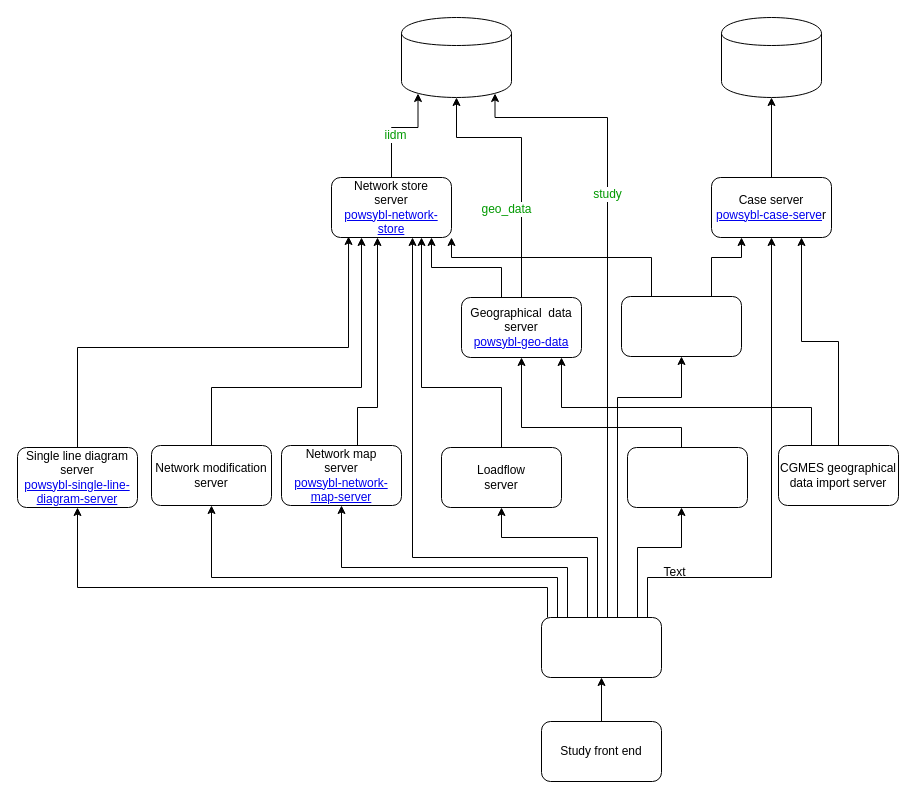
Some shapes in this 916 by 799 pixel diagram are drawn without their labels. Each missing label, with the centre of its shape:
"Cassandra cluster" goes at [456,57].
"File system" goes at [771,57].
"Network conversion server powsybl-network-conversion-server" goes at [681,326].
"ODRE geographical data import server powsybl-odre-server" goes at [687,477].
"Study server powsybl-study-server" goes at [601,647].
